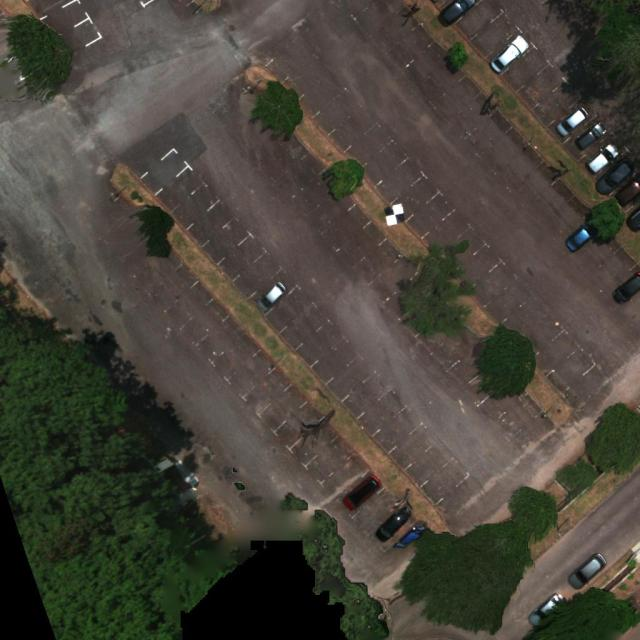Tree: (0, 300, 238, 640), (398, 519, 537, 635), (398, 240, 478, 339), (523, 585, 638, 640), (6, 12, 76, 100), (574, 0, 640, 84), (475, 322, 536, 402), (585, 401, 640, 474), (253, 78, 303, 140), (510, 486, 559, 544), (320, 157, 365, 202), (588, 198, 626, 244), (444, 40, 470, 72)
